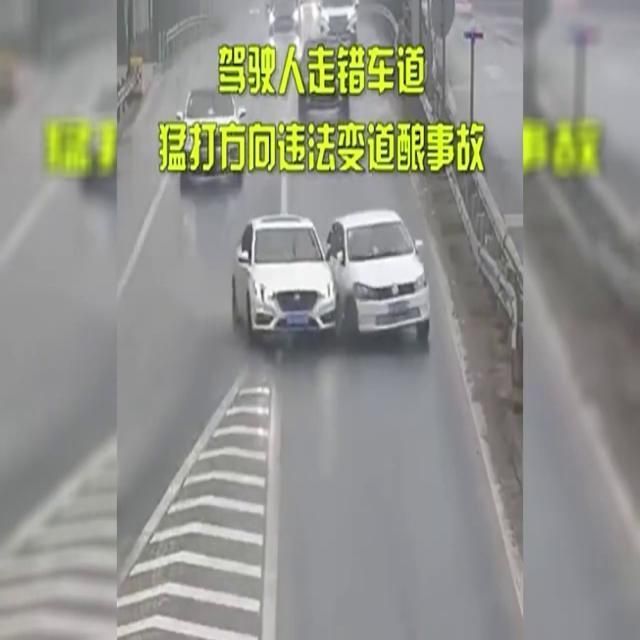accident: (228, 210, 436, 346)
